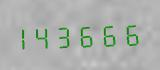four: (38, 21, 58, 50)
one: (17, 22, 37, 51)
six: (81, 19, 101, 49), (102, 19, 122, 48), (123, 18, 143, 47)
three: (60, 20, 80, 49)
